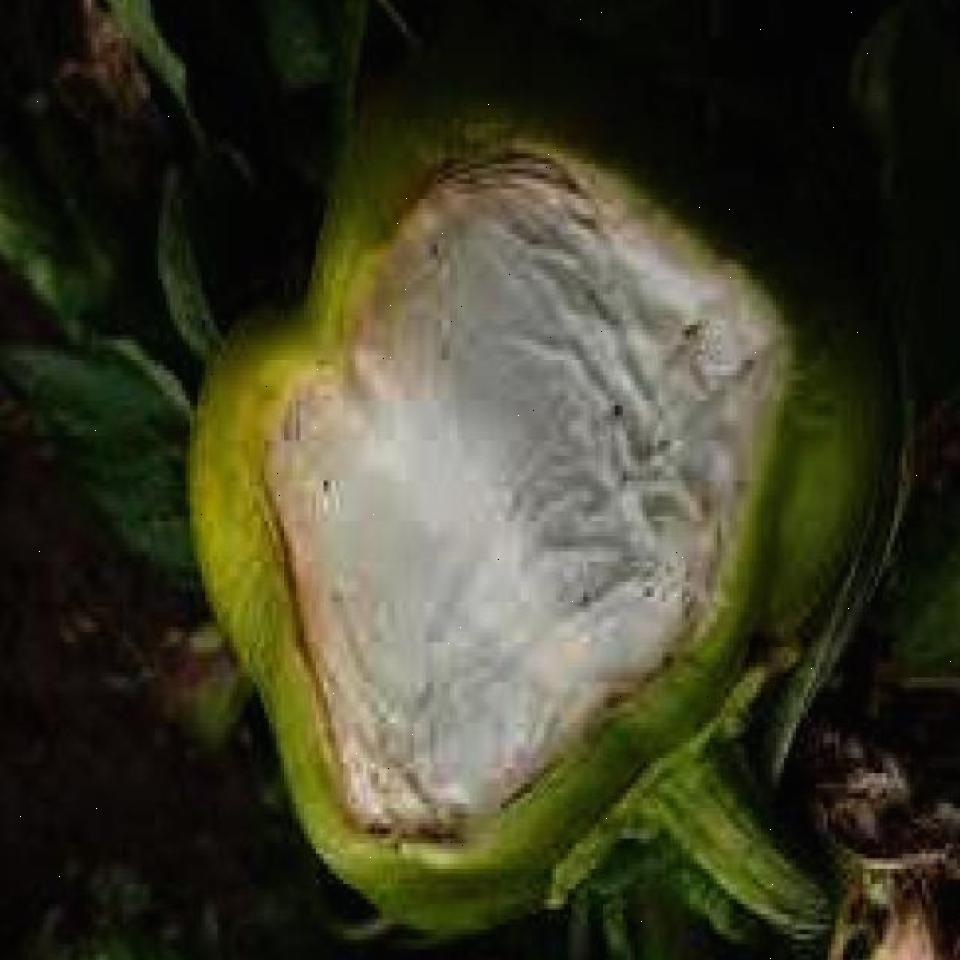Sunscald: (282, 130, 794, 872)
